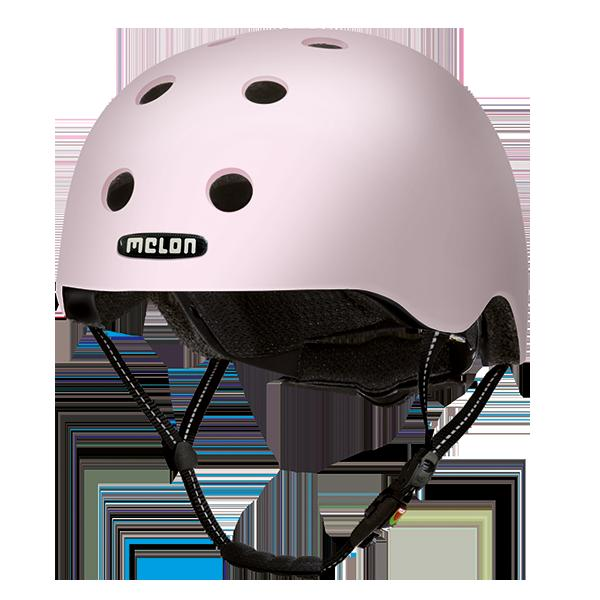helmet: (57, 29, 529, 405)
